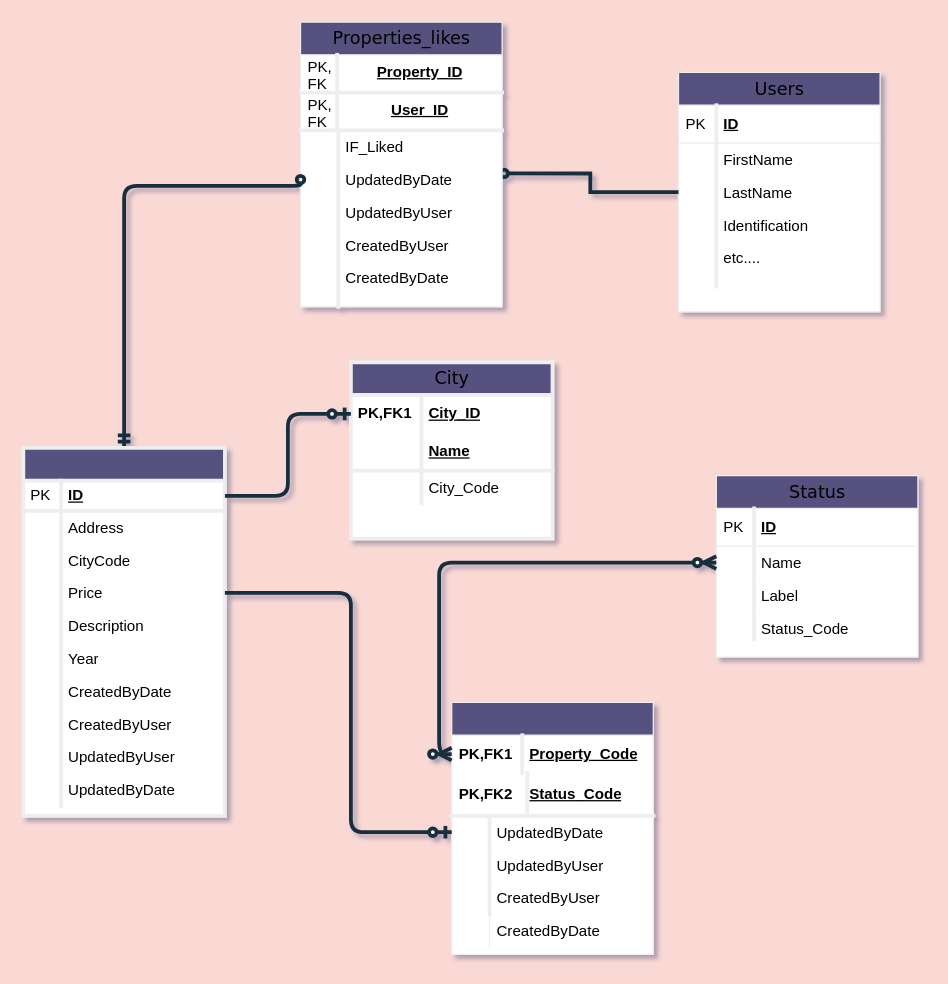
Some shapes in this 948 by 984 pixel diagram are drawn without their labels. The shapes that lost their labels are listed below. From the top down, each one's box as (x1, y1, x2, y2) in pixels, then its label:
(21, 445, 226, 817): Property
(450, 701, 653, 954): Status_History
